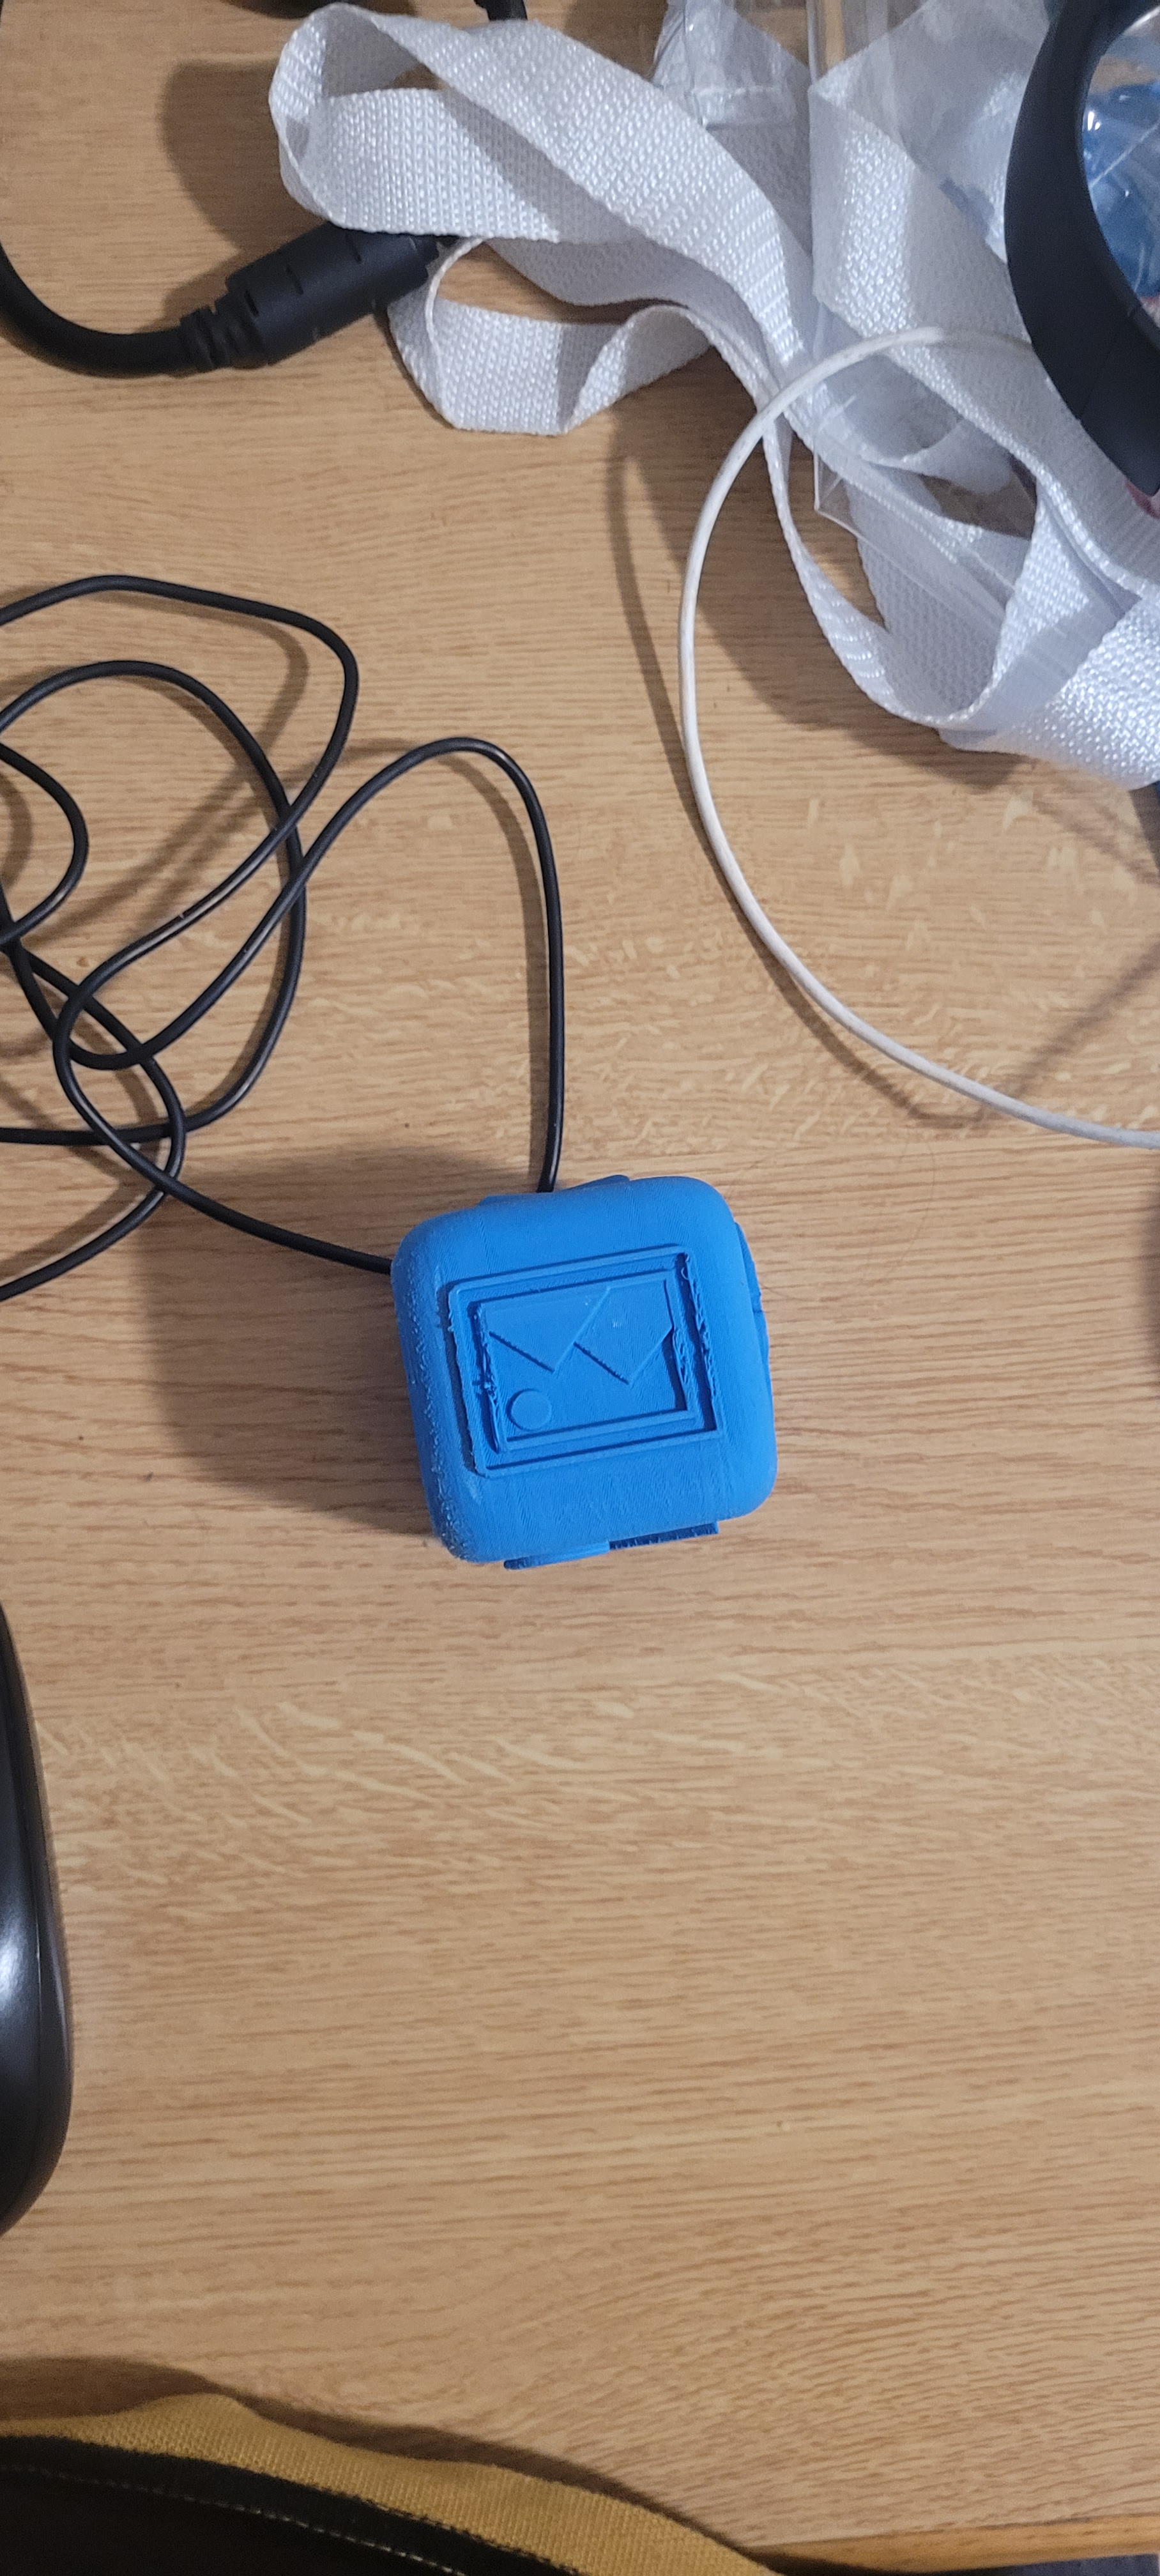Story: (426, 1255, 757, 1500)
